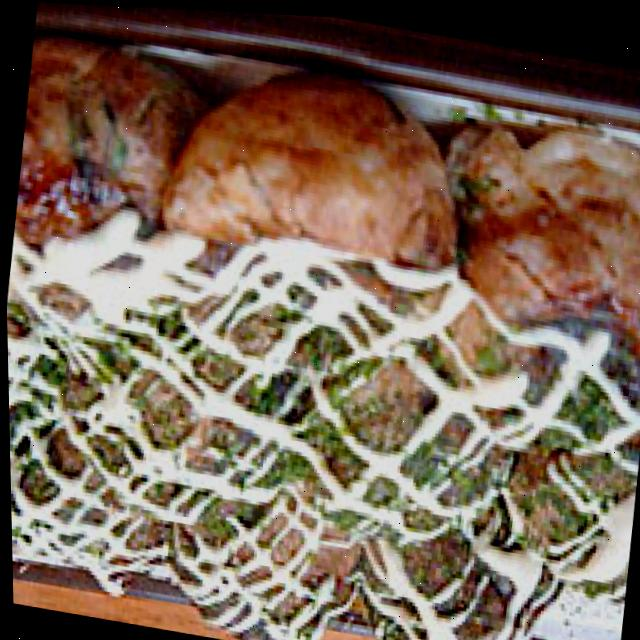炸货点心: (0, 16, 640, 640)
